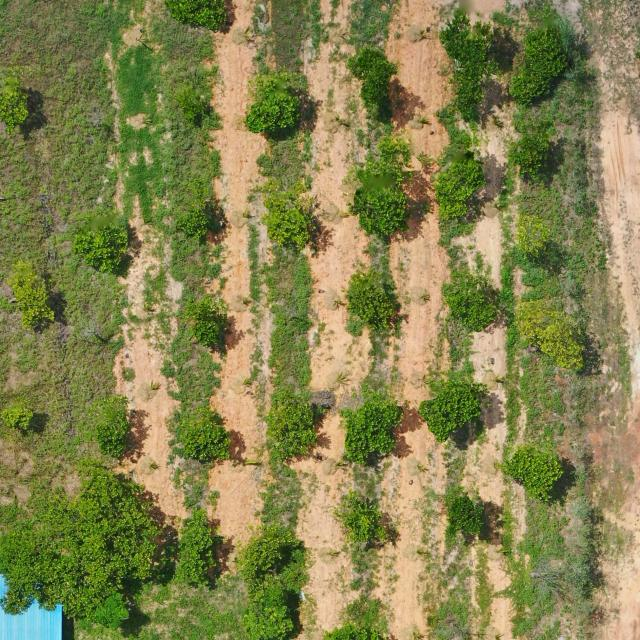Tree: (0, 465, 163, 618), (438, 7, 495, 123), (512, 298, 588, 376), (508, 24, 571, 109), (434, 130, 485, 225), (347, 174, 413, 244), (341, 397, 405, 468), (244, 69, 307, 138), (1, 259, 59, 333), (259, 182, 318, 253), (344, 46, 398, 122), (72, 212, 134, 277), (264, 402, 325, 467), (418, 382, 484, 440), (442, 271, 502, 333), (500, 443, 565, 500), (240, 577, 297, 640), (345, 271, 400, 336), (177, 506, 220, 589), (239, 519, 297, 580), (172, 407, 228, 469), (338, 492, 393, 549), (188, 296, 233, 362), (175, 178, 220, 243), (505, 134, 553, 185), (164, 0, 234, 34), (514, 212, 556, 264), (445, 493, 487, 544), (94, 418, 136, 462), (0, 74, 30, 135), (321, 619, 402, 640), (0, 400, 38, 436)
